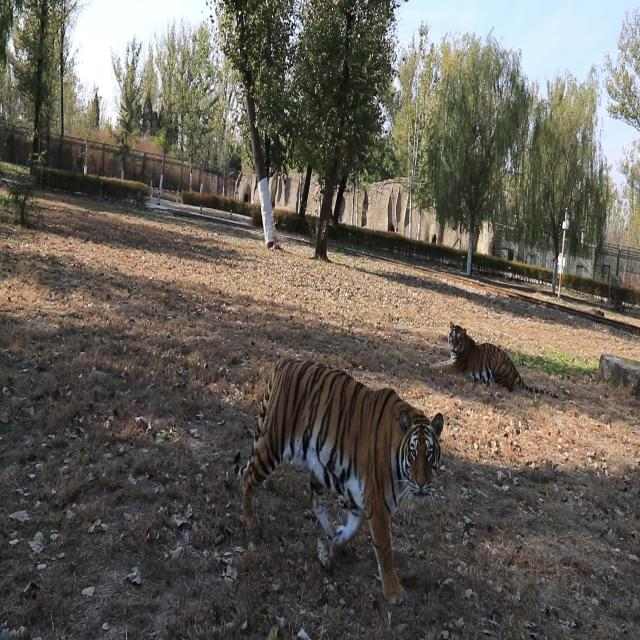Tiger: (222, 348, 455, 616), (433, 312, 547, 402)
